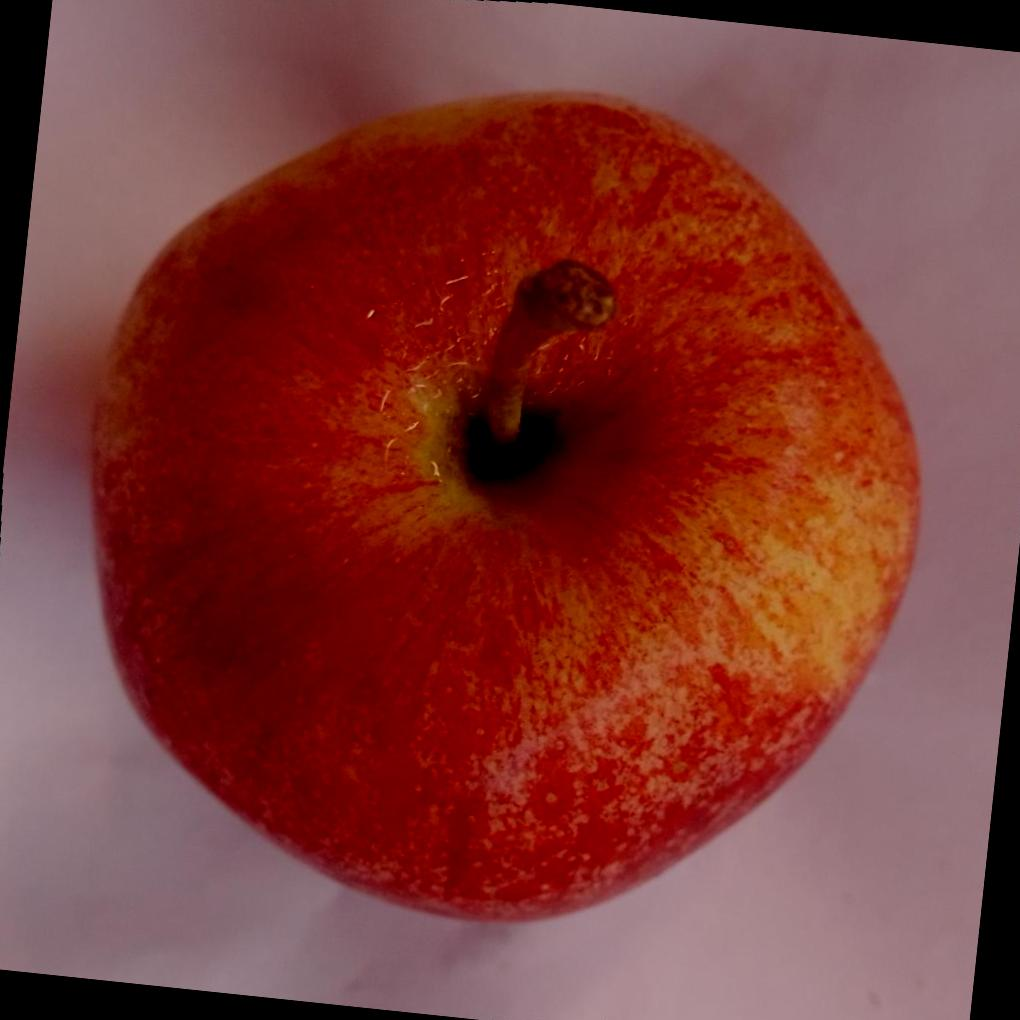FreshGuava: (87, 87, 923, 922)
